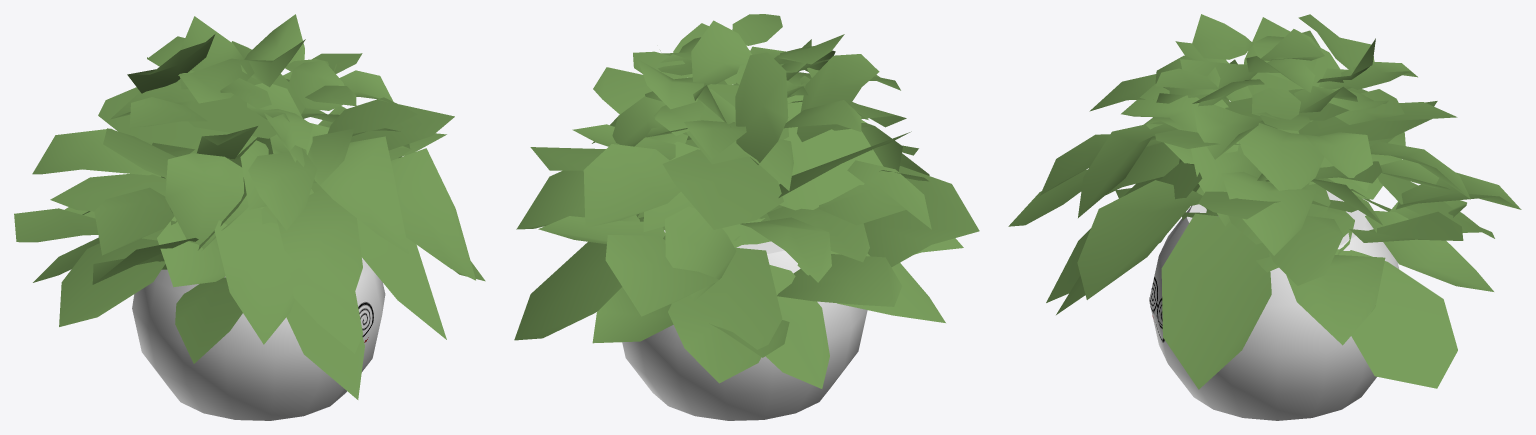
The model's file is table_plant_pots.glb.
3 renders of one model, left to right at view 1: azimuth 30°, elevation 25°; view 2: azimuth 150°, elevation 25°; view 3: azimuth 270°, elevation 25°, orthographic.
Visible parts, largest first — view 1: tree2; view 2: tree2; view 3: tree2.
Part boxes in pixels (left/top/right/bottom): tree2: left=14, top=14, right=485, bottom=420; tree2: left=514, top=14, right=979, bottom=420; tree2: left=1008, top=14, right=1521, bottom=420.
Bounding box in the file's own units: 0.2645 × 0.2174 × 0.292.
1 material, 1 textured.
